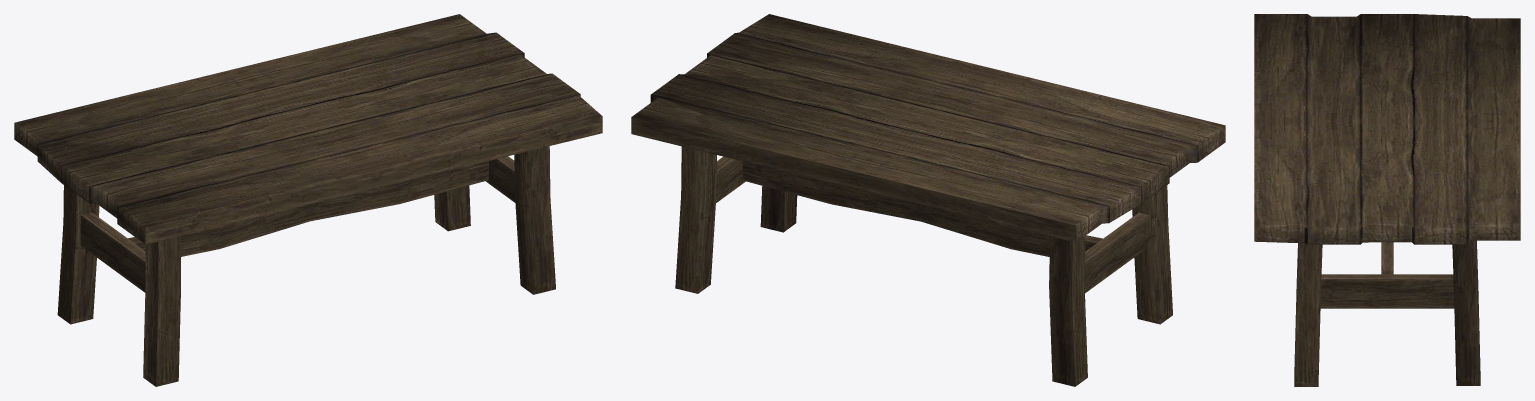
Rendered from eso_gu8_WoodFurniture1-transformed.glb.
3 views of the same model, side by side, from view 1: azimuth 30°, elevation 25°; view 2: azimuth 150°, elevation 25°; view 3: azimuth 270°, elevation 25° (orthographic). The views are drawn at different scales.
Parts seen in each view (by area): view 1: default; view 2: default; view 3: default.
Part boxes in pixels (x1=…): default: x1=14, y1=14, x2=602, y2=386; default: x1=631, y1=14, x2=1225, y2=386; default: x1=1254, y1=14, x2=1520, y2=386.
Size of the model in its own units: 2.51 by 0.9447 by 1.32.
1 material, 1 textured.
